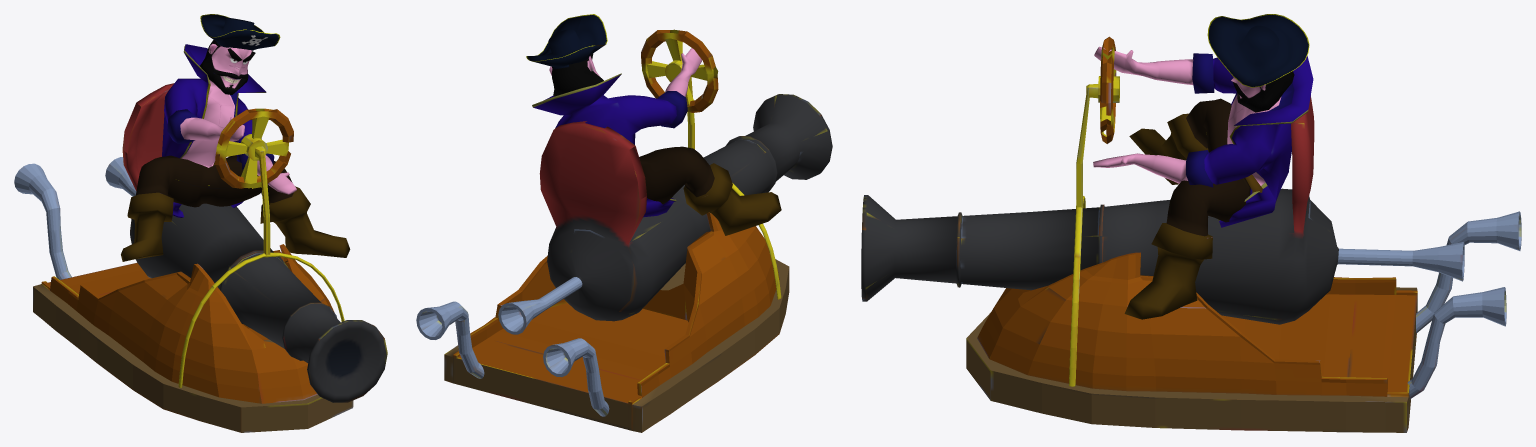
Rendered from pirataGiroDER_000473.obj.
The picture shows the model from 3 angles, left to right: view 1: azimuth 30°, elevation 25°; view 2: azimuth 150°, elevation 25°; view 3: azimuth 270°, elevation 25°; orthographic projection. The views are drawn at different scales.
Visible parts, largest first — view 1: carro_pirata, Pirata_PirataH; view 2: carro_pirata, Pirata_PirataH; view 3: carro_pirata, Pirata_PirataH.
Boxes of the visible parts, <box> form: carro_pirata: <box>14,83,387,432</box>; Pirata_PirataH: <box>121,14,350,261</box>; carro_pirata: <box>416,29,832,432</box>; Pirata_PirataH: <box>526,14,781,235</box>; carro_pirata: <box>861,36,1521,432</box>; Pirata_PirataH: <box>1093,14,1313,319</box>.
Bounding box in the file's own units: 5.68 × 7.56 × 12.1.
